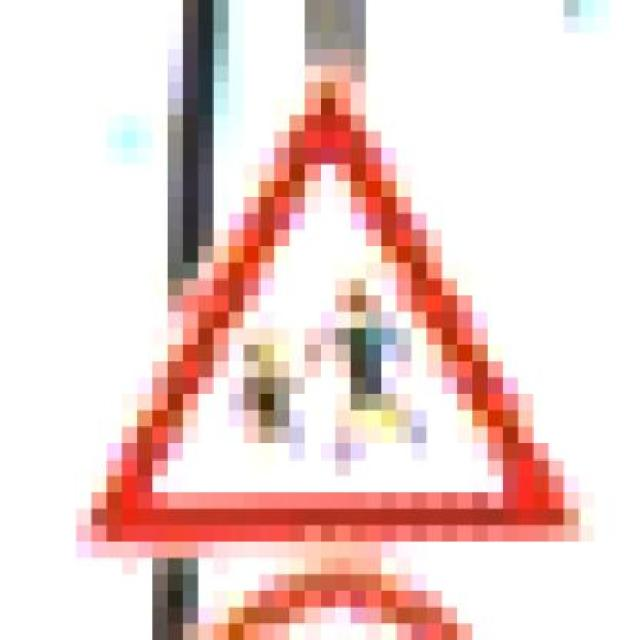Beware of children: (46, 65, 594, 542)
